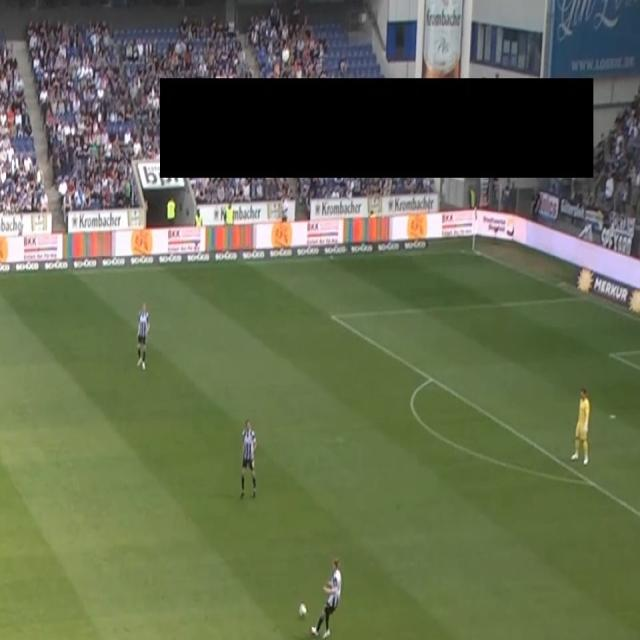ball: (299, 601, 307, 619)
